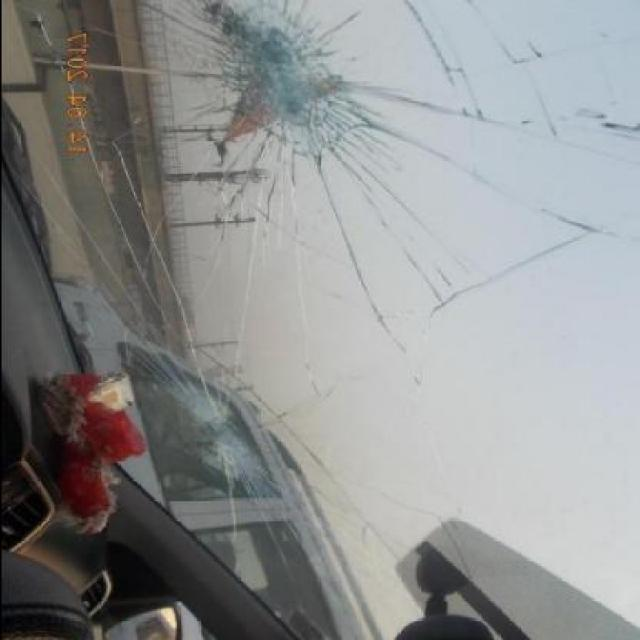damage: (185, 5, 381, 194), (151, 350, 279, 514)
